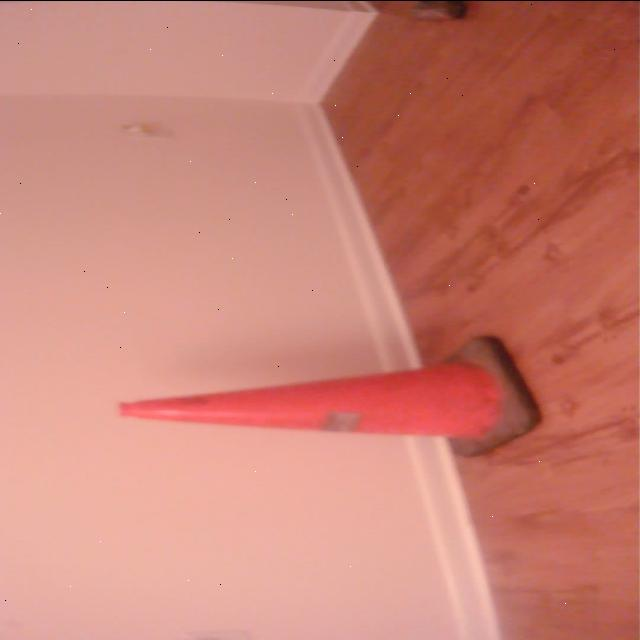traffic cone: (111, 329, 551, 463)
